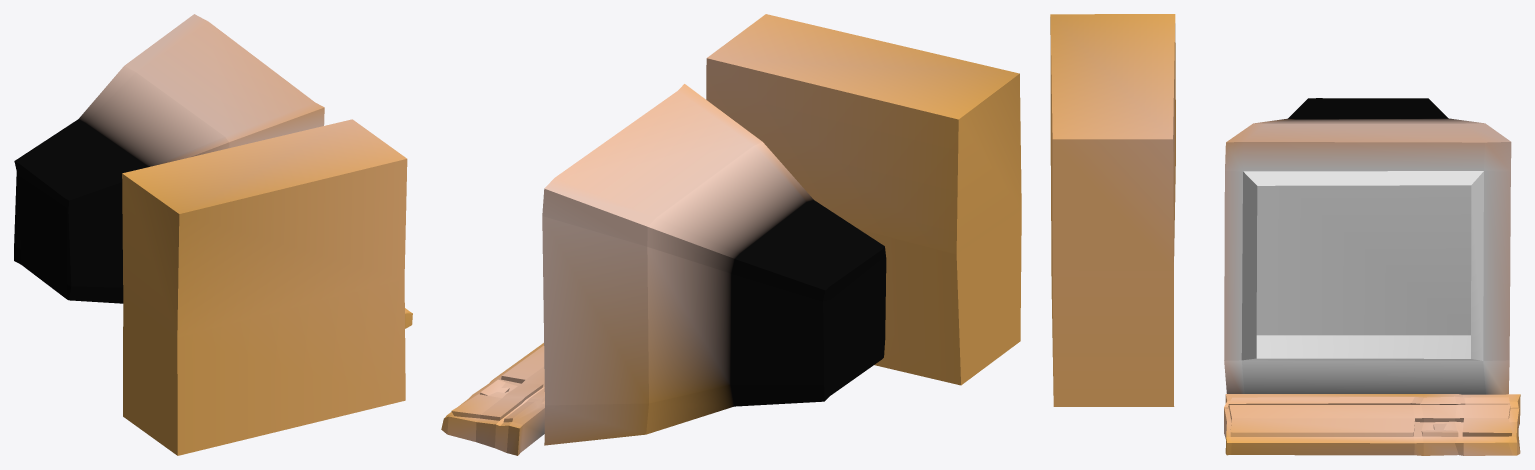
3 renders of one model, left to right at view 1: azimuth 30°, elevation 25°; view 2: azimuth 150°, elevation 25°; view 3: azimuth 270°, elevation 25°, orthographic. The views are drawn at different scales.
Parts seen in each view (by area): view 1: Keyboard; view 2: Keyboard; view 3: Keyboard.
Part boxes in pixels (x1,y1,x2,y2): Keyboard: (14,14,412,455); Keyboard: (441,14,1021,455); Keyboard: (1050,14,1520,455).
Bounding box in the file's own units: 277 × 210 × 321.
